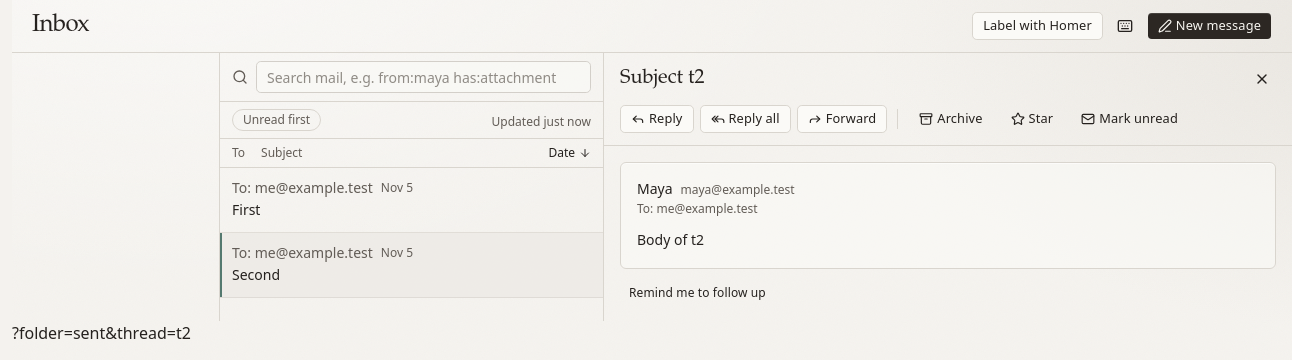
Test: InboxPage URL and sorting › restores the folder and the open thread from the URL
The width and height of the screenshot is (1292, 360).
Expected: the text "Body of t2" is shown, [637,230,704,249]
Click the button with test id "thread-t1" at (302, 188), box [220,168,603,233]
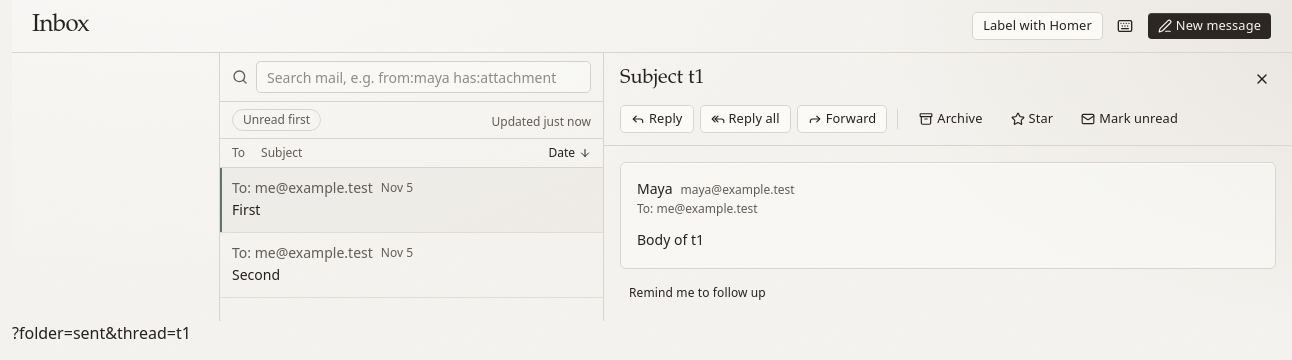
Expected: the text with test id "where" reads "?folder=sent&thread=t1", [12,322,191,344]
